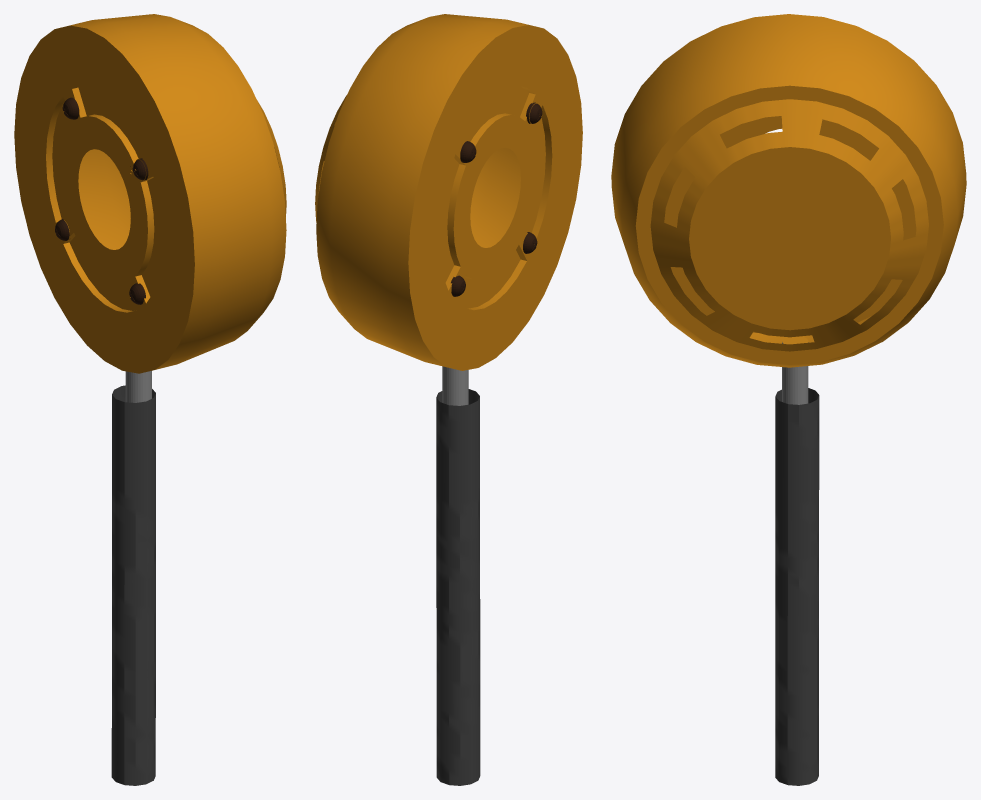
The model's file is Sensor1.obj.
The picture shows the model from 3 angles, left to right: view 1: azimuth 30°, elevation 25°; view 2: azimuth 150°, elevation 25°; view 3: azimuth 270°, elevation 25°; orthographic projection.
Parts seen in each view (by area): view 1: Sensor_1; view 2: Sensor_1; view 3: Sensor_1.
Boxes of the visible parts, left/top/right/bottom form: Sensor_1: left=14, top=14, right=286, bottom=785; Sensor_1: left=315, top=14, right=582, bottom=785; Sensor_1: left=611, top=14, right=966, bottom=785.
Size of the model in its own units: 0.2234 by 1.12 by 0.4847.
